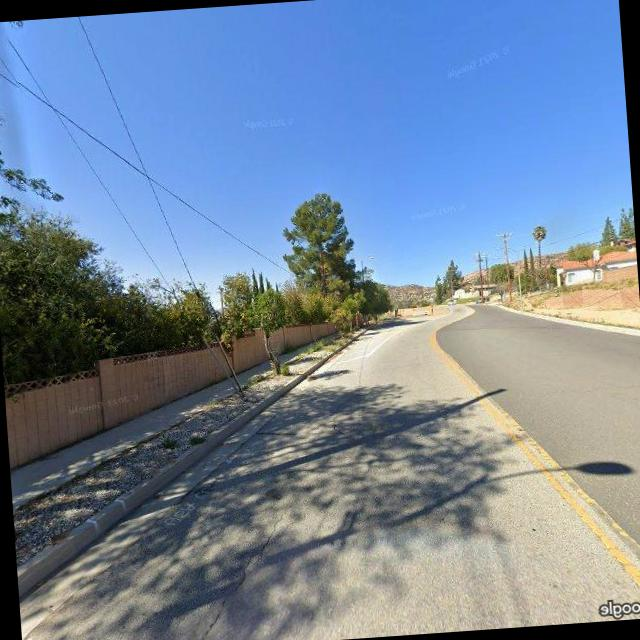crack: (180, 488, 305, 640)
